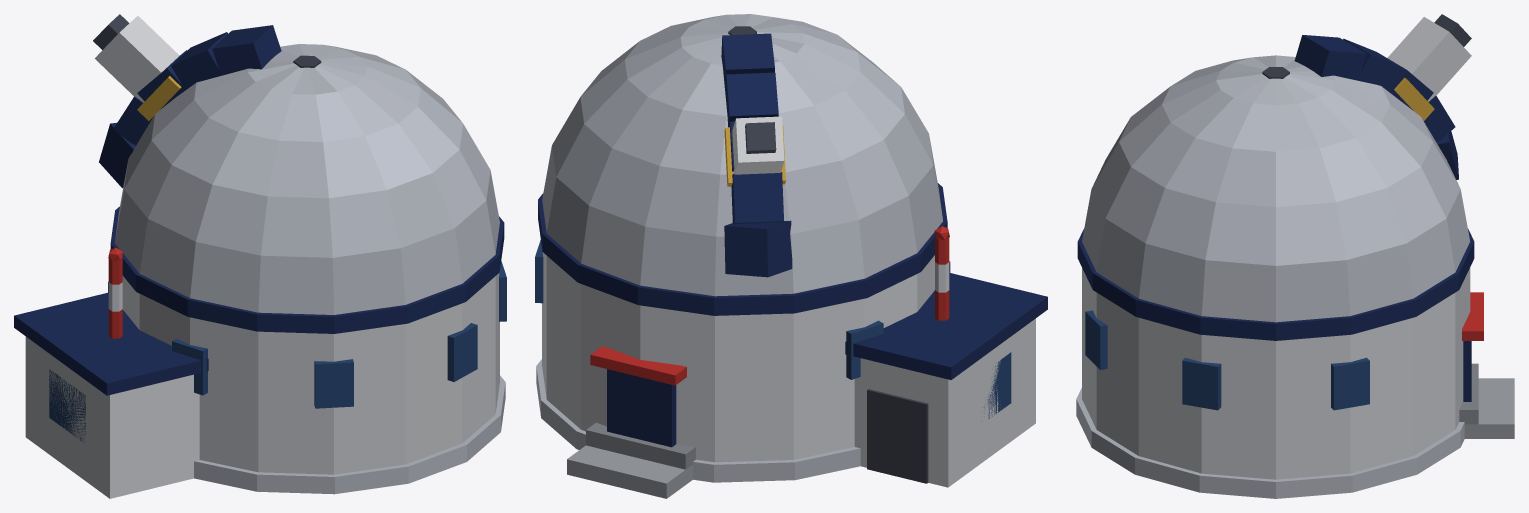
The model's file is Decor_LaunchPad_Dome.fbx.
3 renders of one model, left to right at view 1: azimuth 30°, elevation 25°; view 2: azimuth 150°, elevation 25°; view 3: azimuth 270°, elevation 25°, orthographic. The views are drawn at different scales.
Visible parts, largest first — view 1: Dome_Body; view 2: Dome_Body; view 3: Dome_Body.
Boxes of the visible parts, x1=… form: Dome_Body: x1=14, y1=14, x2=506, y2=498; Dome_Body: x1=535, y1=14, x2=1047, y2=498; Dome_Body: x1=1076, y1=14, x2=1514, y2=498.
Bounding box in the file's own units: 17 × 14.2 × 15.6.
